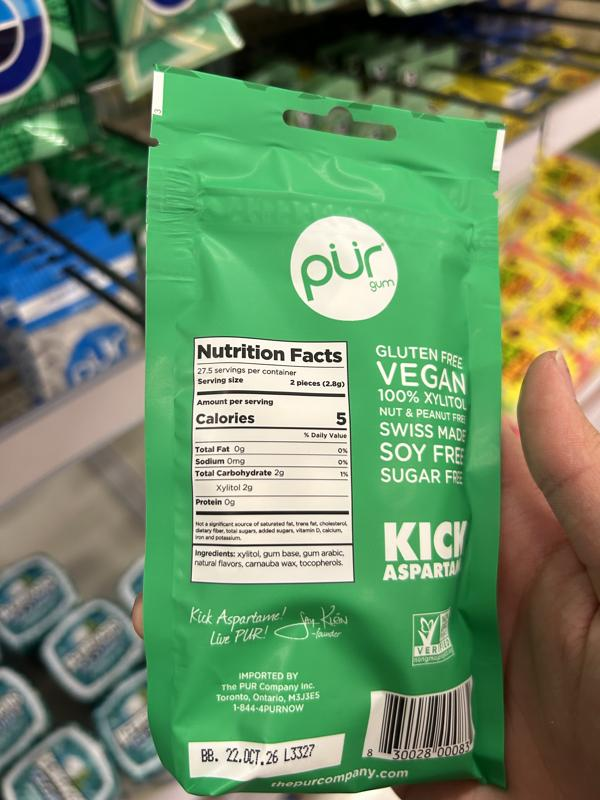ingredients: (193, 547, 346, 569)
